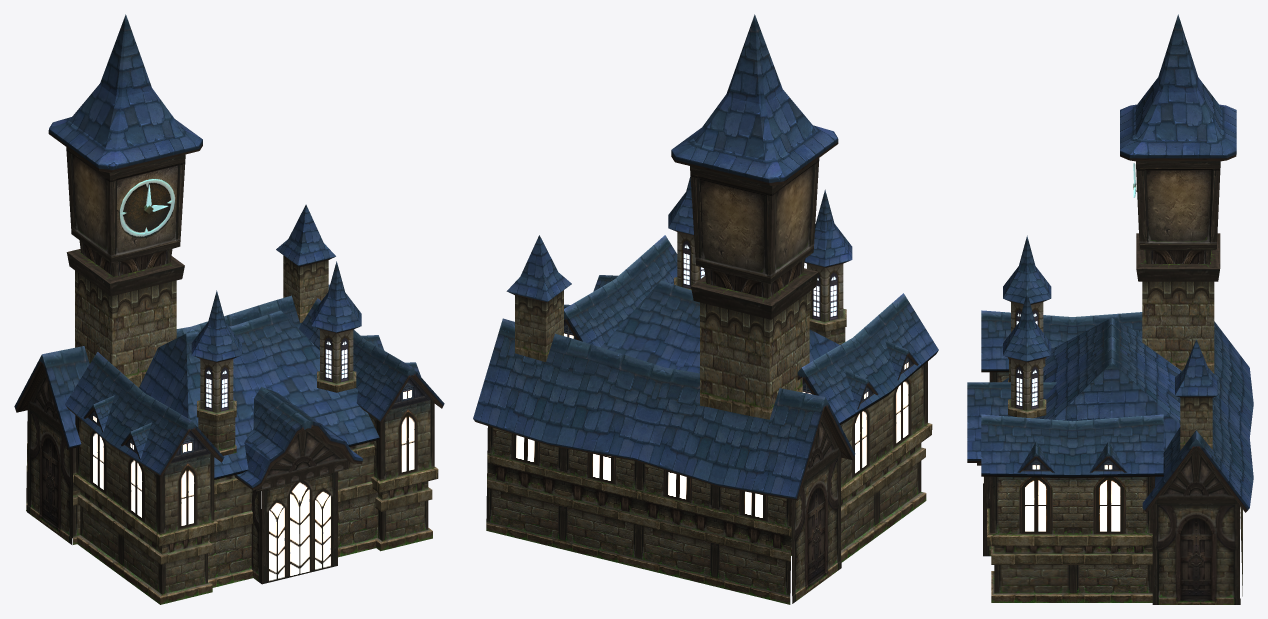
File: TownHall_Level03.FBX
3 views of the same model, side by side, from view 1: azimuth 30°, elevation 25°; view 2: azimuth 150°, elevation 25°; view 3: azimuth 270°, elevation 25° (orthographic). The views are drawn at different scales.
Parts seen in each view (by area): view 1: TownHall_Level03; view 2: TownHall_Level03; view 3: TownHall_Level03.
Boxes of the visible parts, bbox=[...] form: TownHall_Level03: bbox=[14, 14, 444, 604]; TownHall_Level03: bbox=[473, 14, 938, 604]; TownHall_Level03: bbox=[967, 14, 1253, 604].
Bounding box in the file's own units: 424 × 687 × 364.
